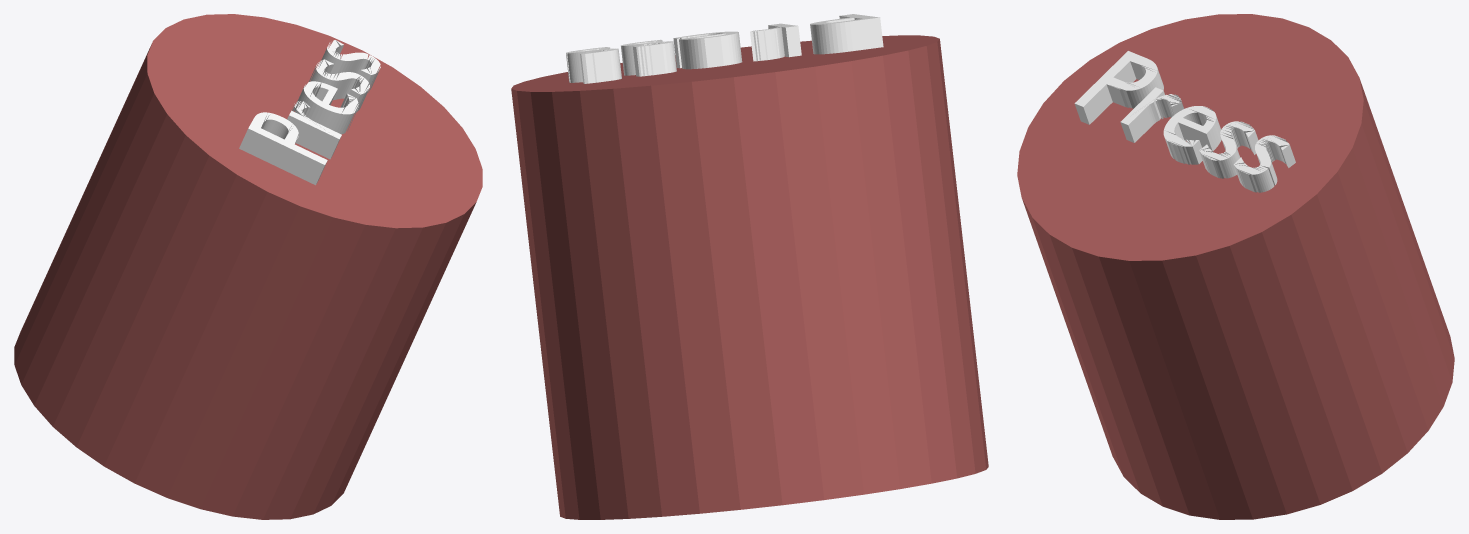
The model's file is butFort.glb.
The picture shows the model from 3 angles, left to right: view 1: azimuth 30°, elevation 25°; view 2: azimuth 150°, elevation 25°; view 3: azimuth 270°, elevation 25°; orthographic projection. The views are drawn at different scales.
Visible parts, largest first — view 1: Cylinder; view 2: Cylinder; view 3: Cylinder.
Part boxes in pixels (x1,y1,x2,y2): Cylinder: (14, 14, 482, 519); Cylinder: (511, 14, 988, 519); Cylinder: (1017, 14, 1454, 519).
Bounding box in the file's own units: 4.76 × 5.01 × 4.7.
